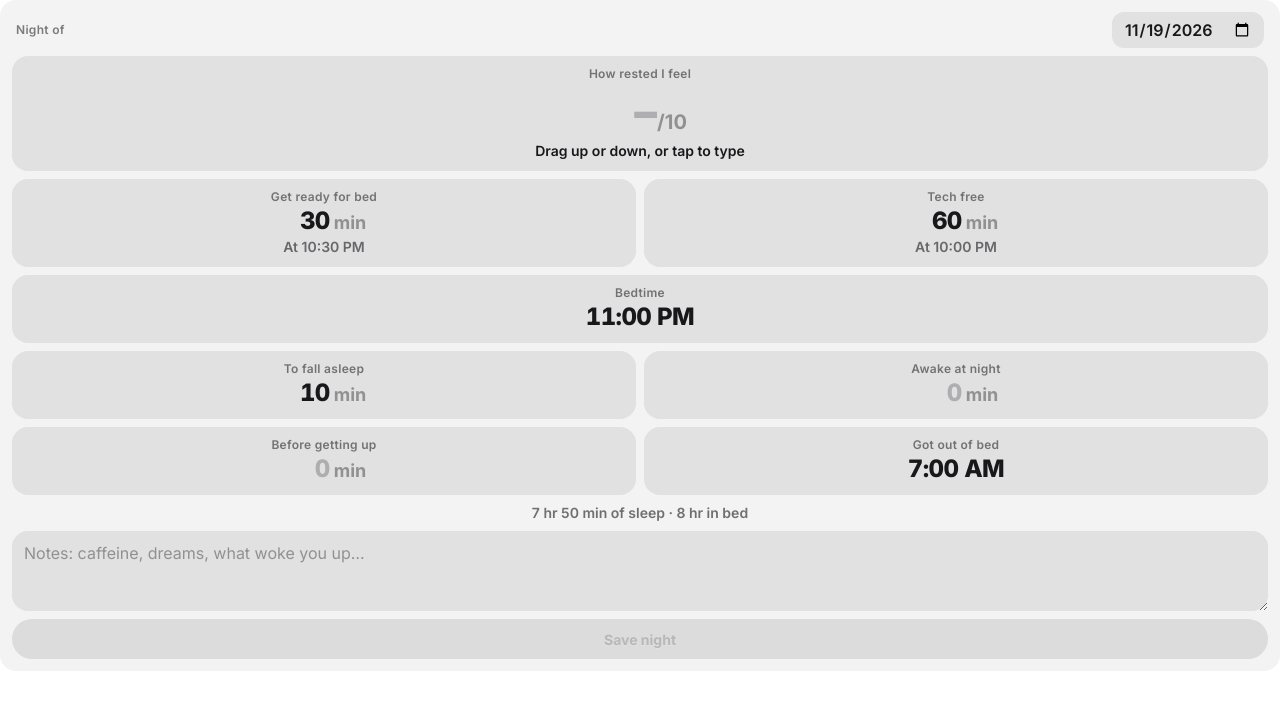
Test: NightForm › undoes a new night back to its starting values
In the field named "How rested from 0 to 10": coordinates (625, 112) [593, 82, 657, 141], type "9"
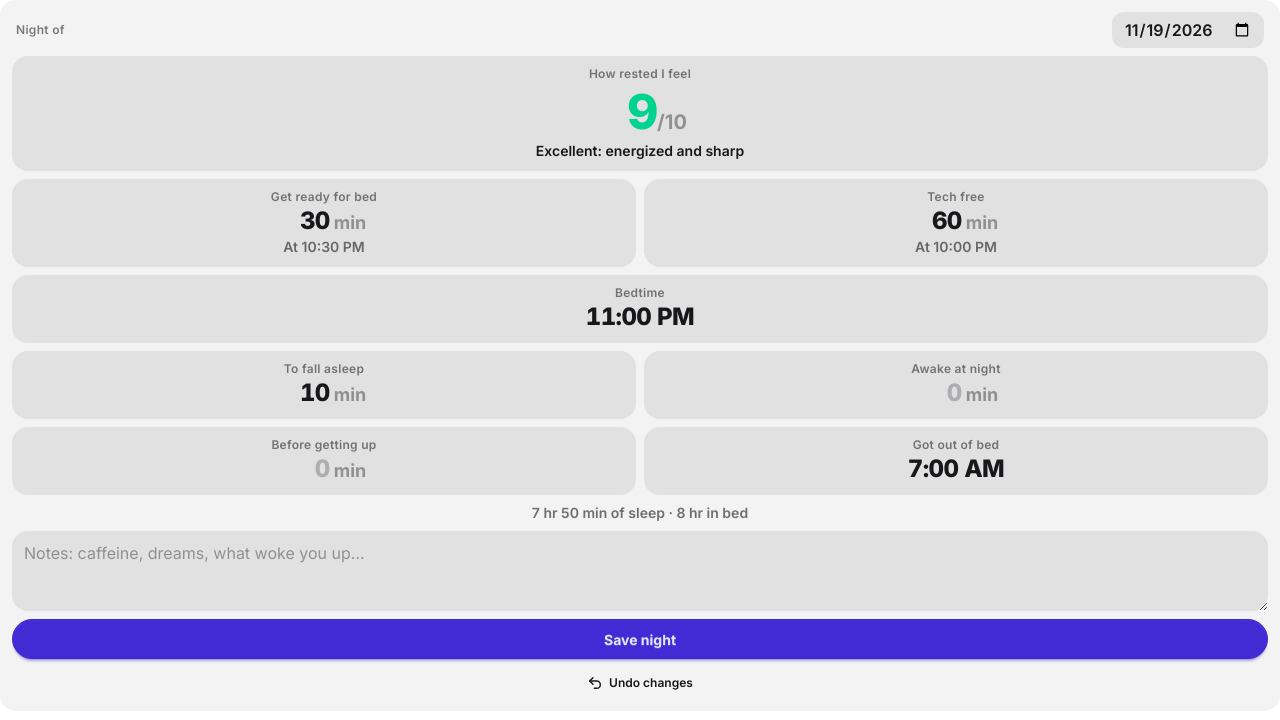
Replace the text in the field labelled "Bedtime" with "1:00 AM": coordinates (640, 317) [24, 301, 1256, 333]
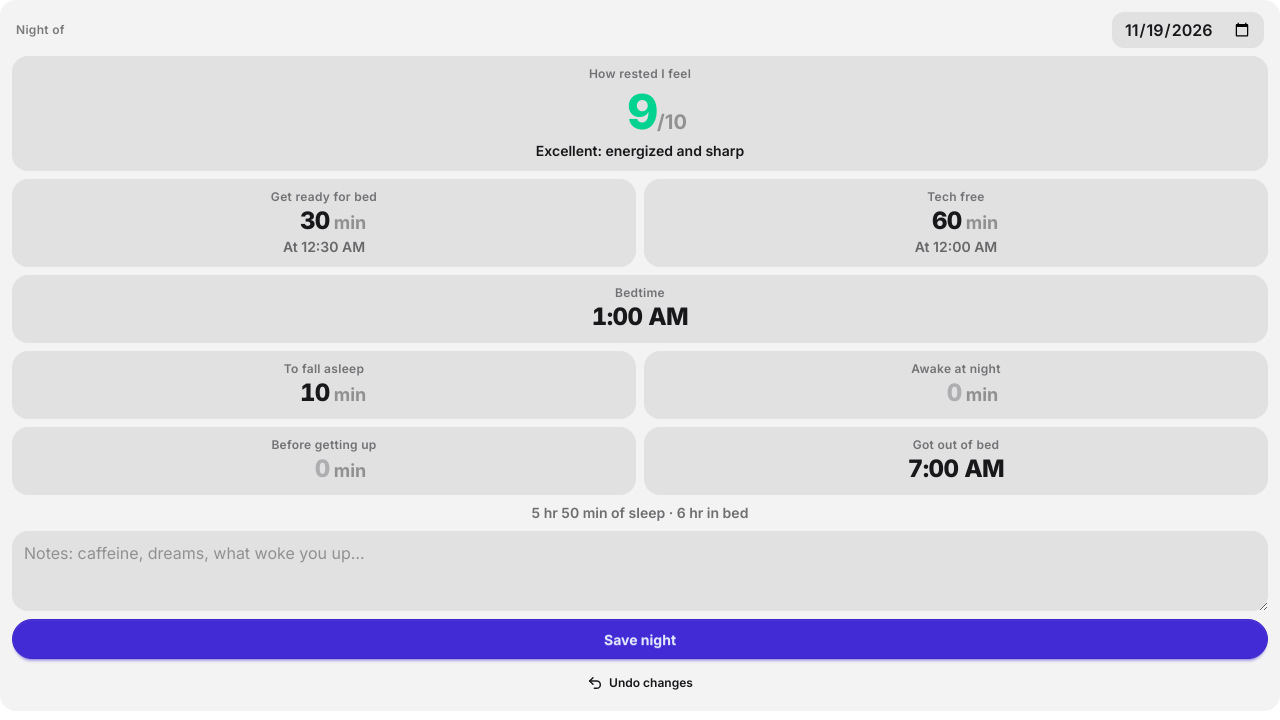
Click the button "Undo changes": coordinates (640, 683) [574, 667, 706, 699]
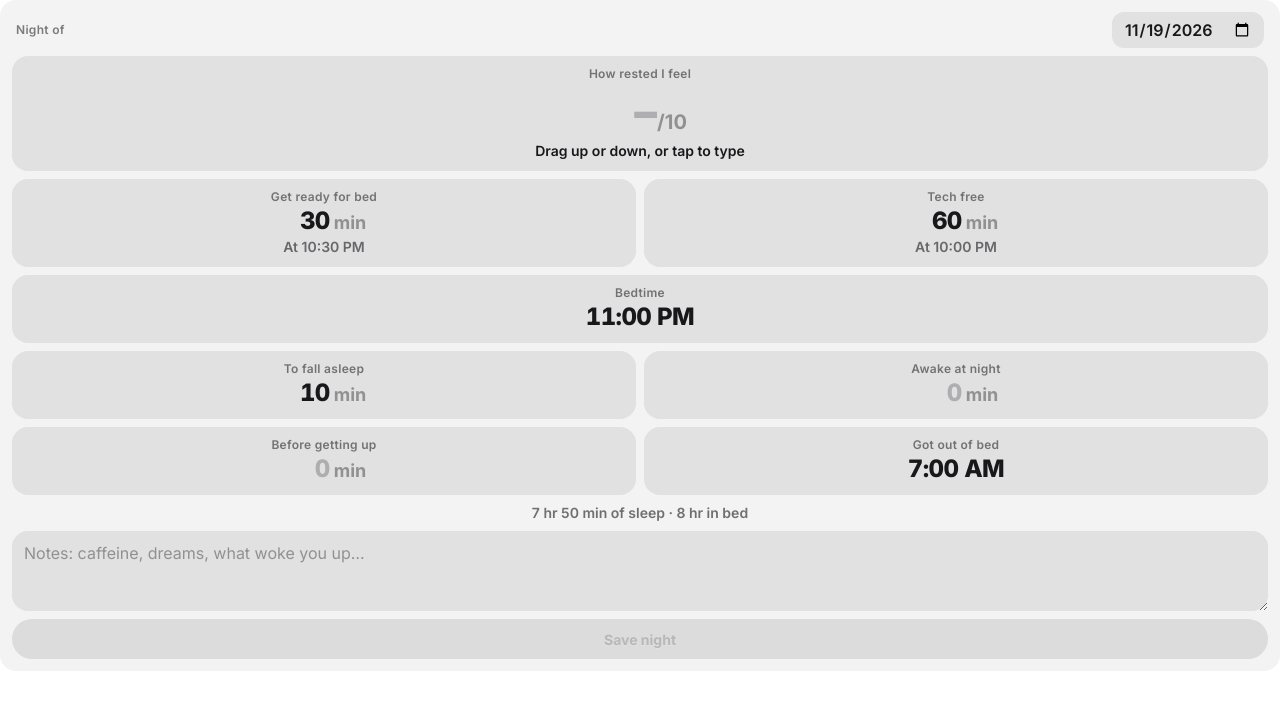
Expected: the field named "How rested from 0 to 10" is empty, [593, 82, 657, 141]
Expected: the field labelled "Bedtime" holds "11:00 PM", [24, 301, 1256, 333]
